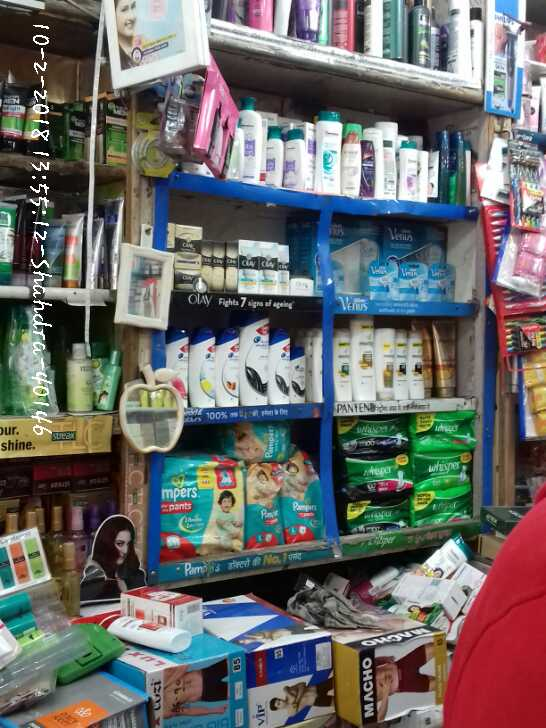gillete: (504, 128, 546, 225)
venus: (296, 225, 368, 289), (383, 224, 450, 257), (399, 260, 429, 300), (371, 260, 399, 300), (429, 263, 457, 300)
